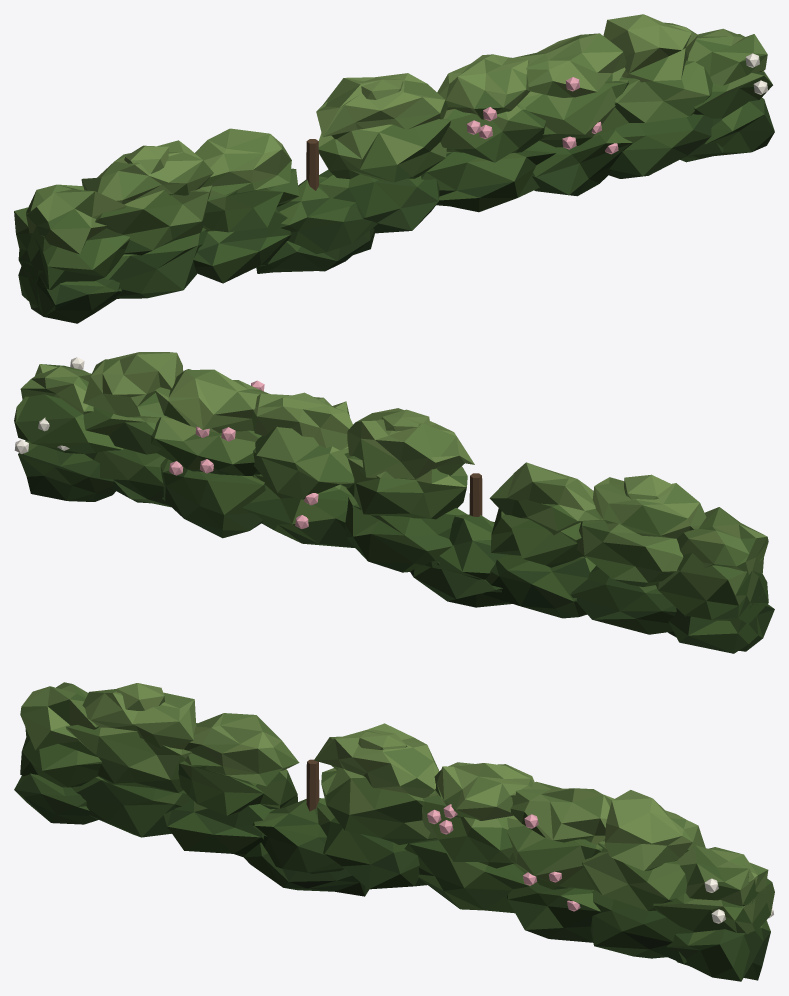
The model's file is lwf_hedge_straight_8m_d_v1.glb.
The picture shows the model from 3 angles, top to bottom: view 1: azimuth 30°, elevation 25°; view 2: azimuth 150°, elevation 25°; view 3: azimuth 330°, elevation 25°; orthographic projection.
Visible parts, largest first — view 1: lwf_hedge_straight_8m_d_v1; view 2: lwf_hedge_straight_8m_d_v1; view 3: lwf_hedge_straight_8m_d_v1.
Part boxes in pixels (x1,y1,x2,y2): lwf_hedge_straight_8m_d_v1: (14,14,774,323); lwf_hedge_straight_8m_d_v1: (14,352,774,653); lwf_hedge_straight_8m_d_v1: (14,682,774,981).
Bounding box in the file's own units: 8.2 × 1.76 × 1.
1 material, 1 textured.
